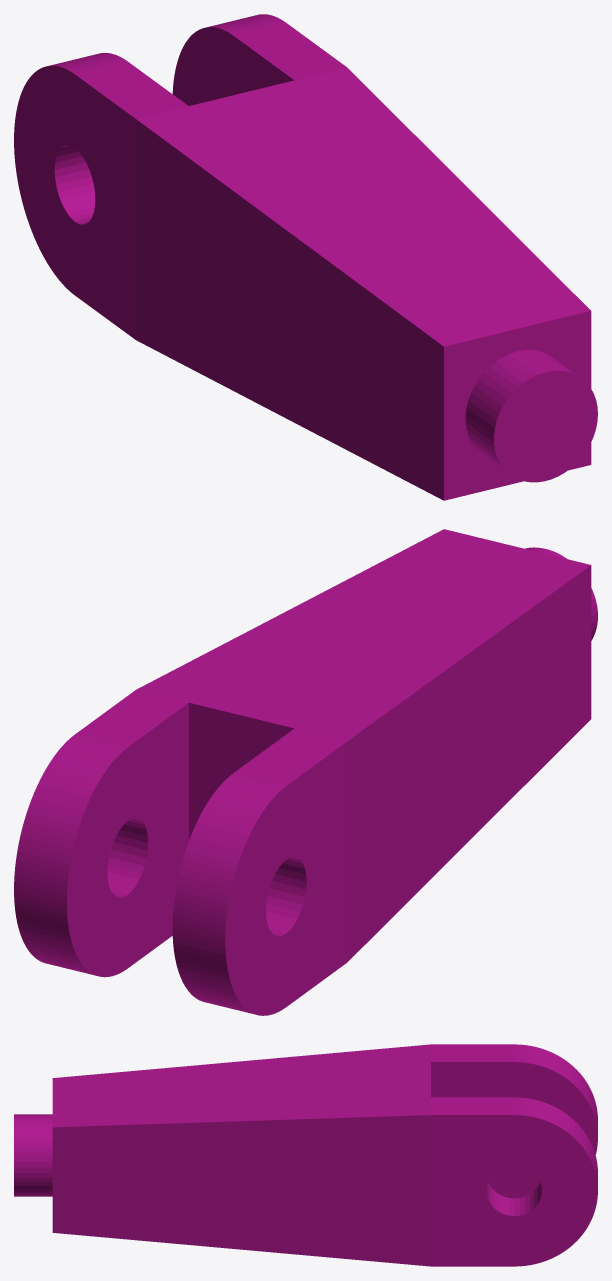
The picture shows the model from 3 angles, top to bottom: view 1: azimuth 30°, elevation 25°; view 2: azimuth 150°, elevation 25°; view 3: azimuth 270°, elevation 25°; orthographic projection. The views are drawn at different scales.
Parts seen in each view (by area): view 1: node; view 2: node; view 3: node.
Boxes of the visible parts, x1,y1,x2,y2 form: node: (14,14,597,500); node: (14,529,597,1015); node: (14,1044,597,1266).
Size of the model in its own units: 0.0304 by 0.0304 by 0.1061.
